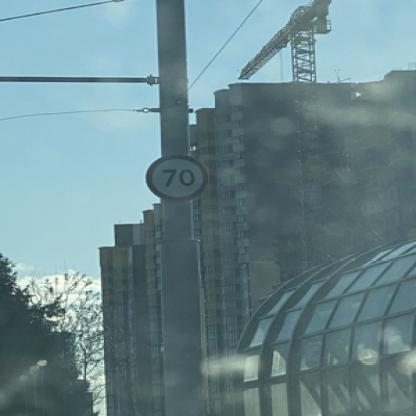Speed Limit 70: (146, 155, 209, 199)
